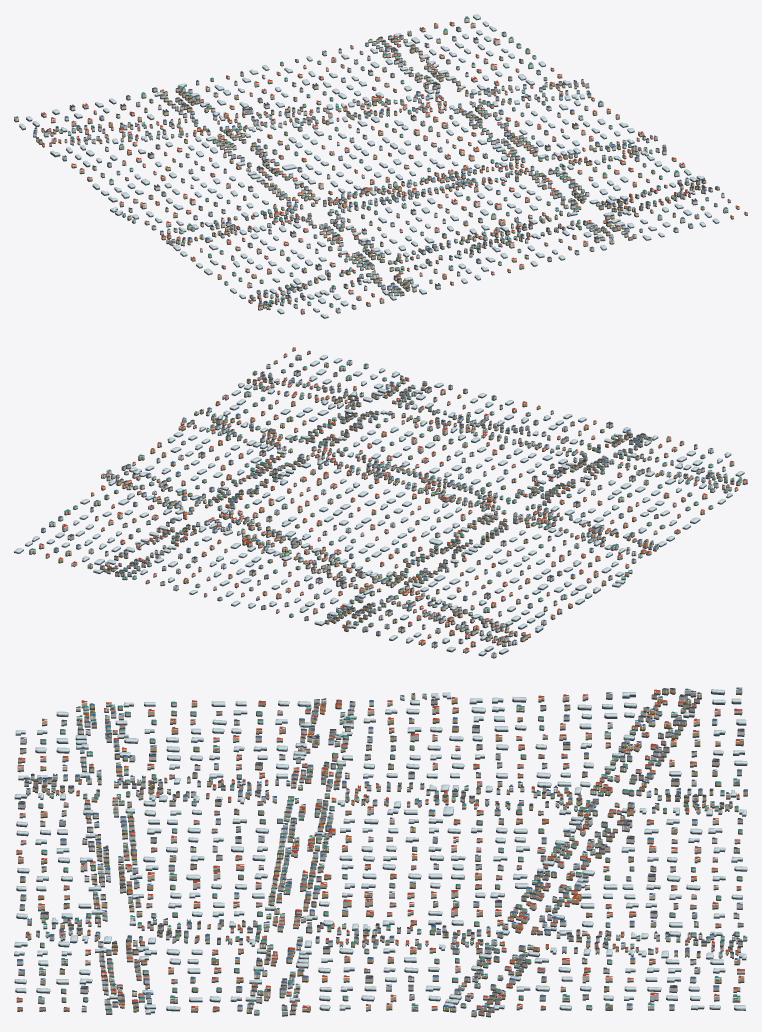
The model's file is osm_buildings_T_E02_S01.glb.
3 renders of one model, top to bottom at view 1: azimuth 30°, elevation 25°; view 2: azimuth 150°, elevation 25°; view 3: azimuth 270°, elevation 25°, orthographic. The views are drawn at different scales.
Parts seen in each view (by area): view 1: OSM_T_E02_S01_foundation, OSM_T_E02_S01_greenhouse_blend, OSM_T_E02_S01_wall_french_ochre, OSM_T_E02_S01_wall_cream_stucco, OSM_T_E02_S01_wall_warm_white, OSM_T_E02_S01_wall_pastel_sand, OSM_T_E02_S01_roof_terracotta, OSM_T_E02_S01_roof_mansard_slate, OSM_T_E02_S01_roof_alpine_blue, OSM_T_E02_S01_roof_mint_metal; view 2: OSM_T_E02_S01_foundation, OSM_T_E02_S01_greenhouse_blend, OSM_T_E02_S01_wall_french_ochre, OSM_T_E02_S01_wall_cream_stucco, OSM_T_E02_S01_wall_warm_white, OSM_T_E02_S01_wall_pastel_sand, OSM_T_E02_S01_roof_terracotta, OSM_T_E02_S01_roof_mansard_slate, OSM_T_E02_S01_roof_alpine_blue, OSM_T_E02_S01_roof_mint_metal; view 3: OSM_T_E02_S01_foundation, OSM_T_E02_S01_greenhouse_blend, OSM_T_E02_S01_wall_french_ochre, OSM_T_E02_S01_wall_cream_stucco, OSM_T_E02_S01_wall_warm_white, OSM_T_E02_S01_wall_pastel_sand, OSM_T_E02_S01_roof_terracotta, OSM_T_E02_S01_roof_mansard_slate, OSM_T_E02_S01_roof_alpine_blue, OSM_T_E02_S01_roof_mint_metal, OSM_T_E02_S01_roof_mansard_deck.
Boxes of the visible parts, x1,y1,x2,y2 form: OSM_T_E02_S01_foundation: [14, 17, 747, 318]; OSM_T_E02_S01_greenhouse_blend: [19, 14, 719, 317]; OSM_T_E02_S01_wall_french_ochre: [36, 24, 747, 305]; OSM_T_E02_S01_wall_cream_stucco: [14, 17, 708, 313]; OSM_T_E02_S01_wall_warm_white: [33, 27, 724, 312]; OSM_T_E02_S01_wall_pastel_sand: [33, 27, 739, 306]; OSM_T_E02_S01_roof_terracotta: [41, 21, 747, 310]; OSM_T_E02_S01_roof_mansard_slate: [34, 35, 723, 306]; OSM_T_E02_S01_roof_alpine_blue: [14, 26, 705, 309]; OSM_T_E02_S01_roof_mint_metal: [59, 16, 727, 307]; OSM_T_E02_S01_foundation: [14, 349, 747, 658]; OSM_T_E02_S01_greenhouse_blend: [14, 355, 744, 654]; OSM_T_E02_S01_wall_french_ochre: [58, 348, 740, 644]; OSM_T_E02_S01_wall_cream_stucco: [29, 367, 747, 657]; OSM_T_E02_S01_wall_warm_white: [49, 364, 741, 652]; OSM_T_E02_S01_wall_pastel_sand: [53, 354, 729, 644]; OSM_T_E02_S01_roof_terracotta: [39, 347, 747, 650]; OSM_T_E02_S01_roof_mansard_slate: [68, 364, 733, 644]; OSM_T_E02_S01_roof_alpine_blue: [41, 359, 740, 654]; OSM_T_E02_S01_roof_mint_metal: [29, 354, 741, 636]; OSM_T_E02_S01_foundation: [14, 692, 747, 1017]; OSM_T_E02_S01_greenhouse_blend: [14, 689, 747, 1013]; OSM_T_E02_S01_wall_french_ochre: [16, 688, 747, 1013]; OSM_T_E02_S01_wall_cream_stucco: [17, 688, 742, 1015]; OSM_T_E02_S01_wall_warm_white: [17, 690, 747, 1010]; OSM_T_E02_S01_wall_pastel_sand: [18, 692, 743, 1015]; OSM_T_E02_S01_roof_terracotta: [16, 689, 744, 1012]; OSM_T_E02_S01_roof_mansard_slate: [18, 688, 744, 1012]; OSM_T_E02_S01_roof_alpine_blue: [17, 687, 747, 1012]; OSM_T_E02_S01_roof_mint_metal: [27, 693, 746, 1011]; OSM_T_E02_S01_roof_mansard_deck: [18, 707, 743, 1007].
Bounding box in the file's own units: 1950 × 56.3 × 1890.
